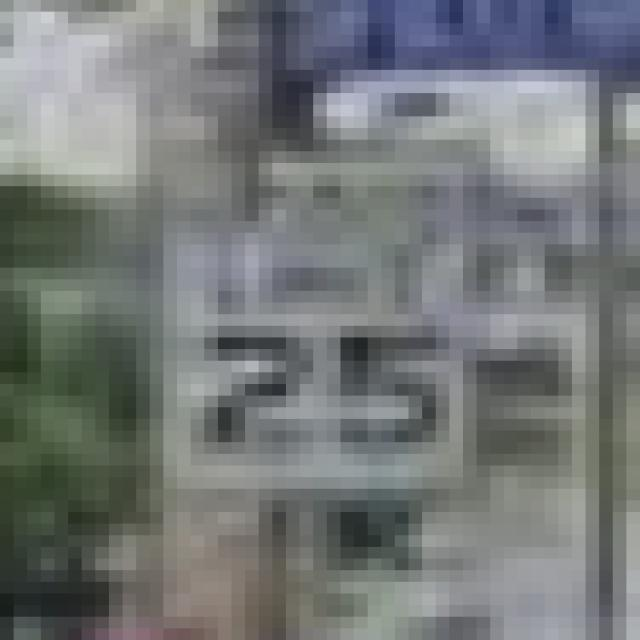speedLimit25: (148, 141, 482, 498)
